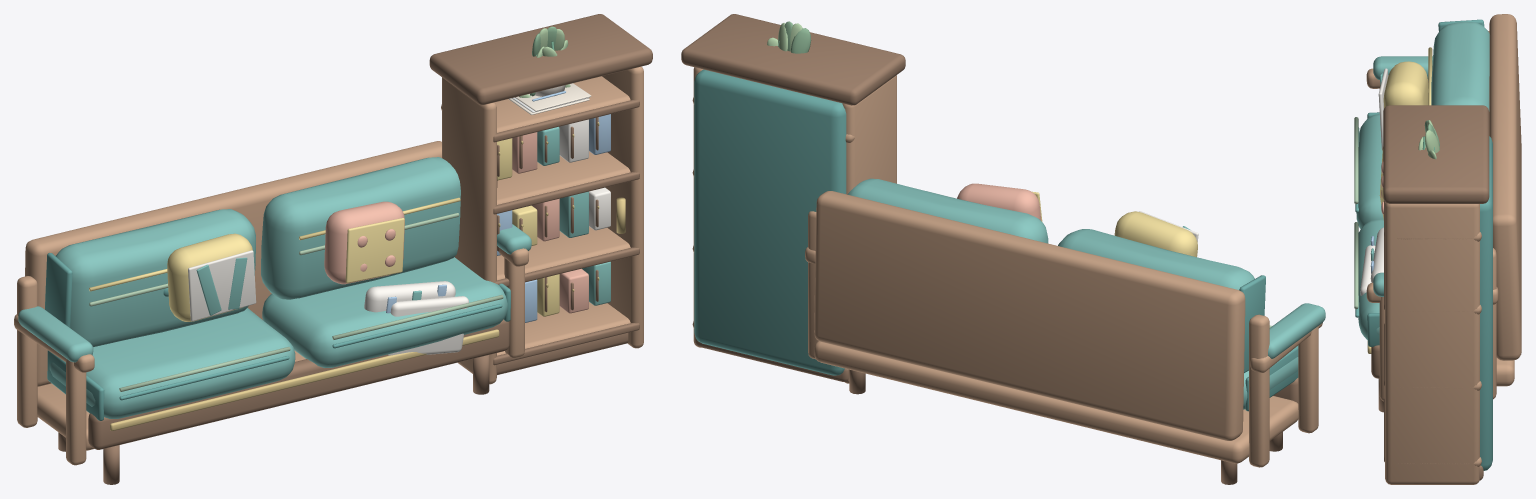
File: civic-lounge-suite.glb
3 renders of one model, left to right at view 1: azimuth 30°, elevation 25°; view 2: azimuth 150°, elevation 25°; view 3: azimuth 270°, elevation 25°, orthographic.
Parts seen in each view (by area): view 1: LoungeBackCushion_1, LoungeSeat_-1, LoungeBackCushion_-1, LoungeSeat_1, LoungeBookcaseCrown, LoungeSofaBack, LoungeSofaFrontRail, LoungeBookcaseSide_1.25, LoungeBookcaseSide_2.19, LoungeShelf_3, LoungeSofaFrontReveal, LoungePillowCoralInset (+38 smaller); view 2: LoungeSofaBack, LoungeBookcaseBack, LoungeBookcaseCrown, LoungeSofaLowerRail, LoungeBookcaseSide_1.25, LoungeBackCushion_1, LoungeBackCushion_-1, LoungeArmPostRear_-1.4, LoungePillowButter, LoungeArmPostFront_-1.4, LoungePillowCoral, LoungeArmPad_-1.4 (+3 smaller); view 3: LoungeBookcaseSide_2.19, LoungeBookcaseCrown, LoungeSofaBack, LoungeBackCushion_-1, LoungeBookcaseBack, LoungeSeat_-1, LoungePillowButter, LoungeSeat_1, LoungeArmPad_-1.4, LoungeArmPostRear_1.4, LoungeArmPostFront_1.4, LoungeSofaLowerRail (+12 smaller).
Boxes of the visible parts, x1,y1,x2,y2 form: LoungeBackCushion_1: (261,157,460,299); LoungeSeat_-1: (49,308,295,418); LoungeBackCushion_-1: (56,209,255,347); LoungeSeat_1: (262,257,507,367); LoungeBookcaseCrown: (429,14,652,104); LoungeSofaBack: (25,141,441,386); LoungeSofaFrontRail: (88,319,509,449); LoungeBookcaseSide_1.25: (442,77,496,384); LoungeBookcaseSide_2.19: (602,66,643,348); LoungeShelf_3: (480,151,630,209); LoungeSofaFrontReveal: (110,329,499,430); LoungePillowCoralInset: (345,218,404,283); LoungeSofaBack: (814,191,1245,440); LoungeBookcaseBack: (694,69,846,375); LoungeBookcaseCrown: (681,14,905,105); LoungeSofaLowerRail: (814,341,1298,463); LoungeBookcaseSide_1.25: (842,75,896,383); LoungeBackCushion_1: (847,178,1048,243); LoungeBackCushion_-1: (1058,229,1254,289); LoungeArmPostRear_-1.4: (1249,314,1269,467); LoungePillowButter: (1114,211,1197,257); LoungeArmPostFront_-1.4: (1298,326,1318,433); LoungePillowCoral: (957,183,1041,220); LoungeArmPad_-1.4: (1268,303,1325,358); LoungeBookcaseSide_2.19: (1385,203,1479,484); LoungeBookcaseCrown: (1383,105,1489,203); LoungeSofaBack: (1489,14,1521,360); LoungeBackCushion_-1: (1431,21,1489,111); LoungeBookcaseBack: (1480,136,1492,470); LoungeSeat_-1: (1356,114,1383,229); LoungePillowButter: (1383,61,1428,108); LoungeSeat_1: (1358,219,1383,340); LoungeArmPad_-1.4: (1373,56,1432,80); LoungeArmPostRear_1.4: (1493,248,1496,399); LoungeArmPostFront_1.4: (1379,297,1384,401); LoungeSofaLowerRail: (1496,358,1514,386).
Bounding box in the file's own units: 3.76 × 2 × 0.9176.
